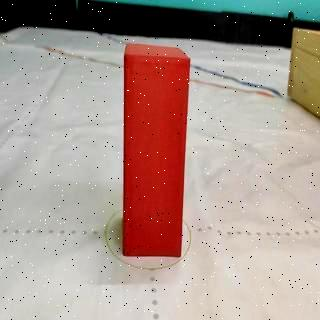redbox: (124, 42, 190, 258)
